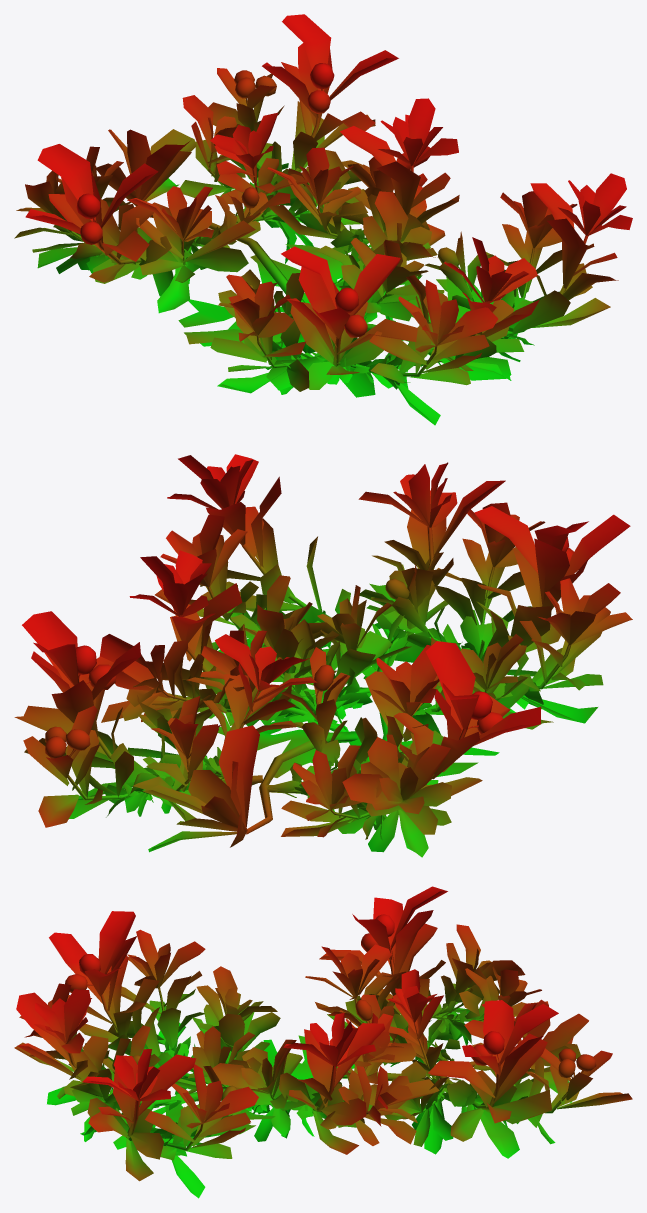
Rendered from Alpine Bearberry_LOD3_Var6_xb0gdazqx.fbx.
3 views of the same model, one above another, from view 1: azimuth 30°, elevation 25°; view 2: azimuth 150°, elevation 25°; view 3: azimuth 270°, elevation 25° (orthographic). The views are drawn at different scales.
Visible parts, largest first — view 1: _39qt_Var6_LOD3; view 2: _39qt_Var6_LOD3; view 3: _39qt_Var6_LOD3.
Part boxes in pixels (bbox=[...]): _39qt_Var6_LOD3: bbox=[14, 14, 632, 425]; _39qt_Var6_LOD3: bbox=[14, 454, 632, 857]; _39qt_Var6_LOD3: bbox=[14, 886, 632, 1198].
Size of the model in its own units: 37.33 by 14.23 by 48.09.
